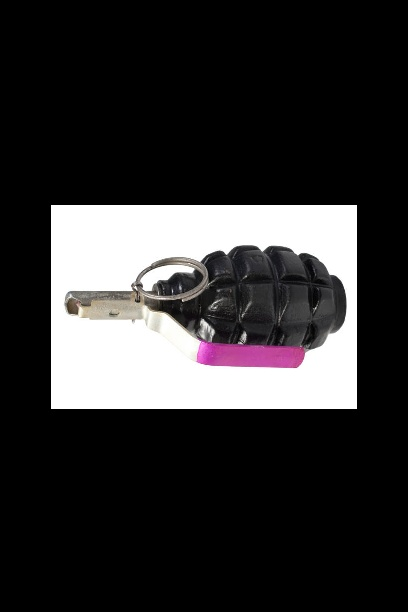e1: (59, 245, 349, 374)
